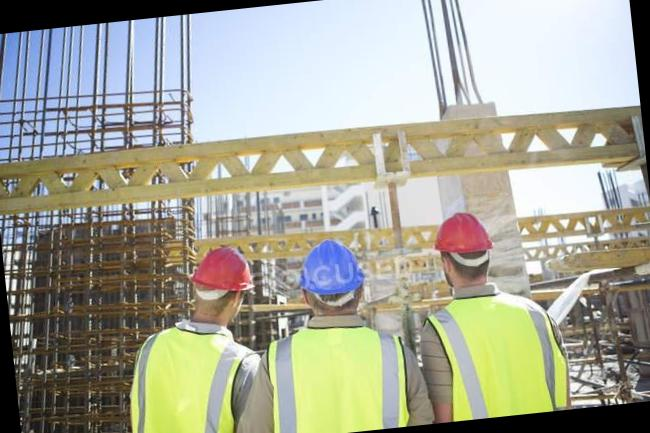Vest: (412, 284, 574, 410), (261, 303, 416, 433), (132, 315, 265, 433)
